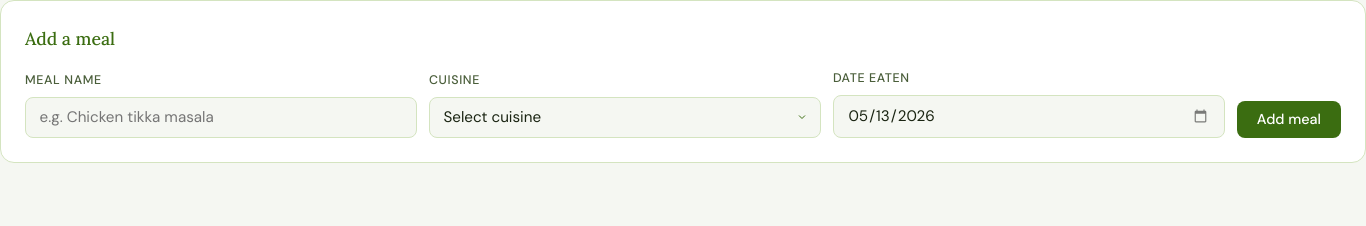
Test: MealForm — successful submission › shows success message after meal is created
Type "Pizza" into the field with placeholder "e.g. Chicken tikka masala" at {"x": 221, "y": 117}, box [25,97,417,138]
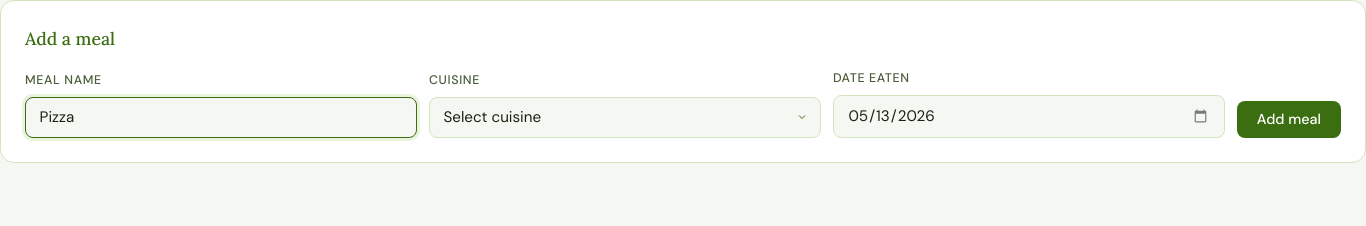
Select "Italian" in the dropdown at {"x": 625, "y": 117}, box [429,97,821,138]
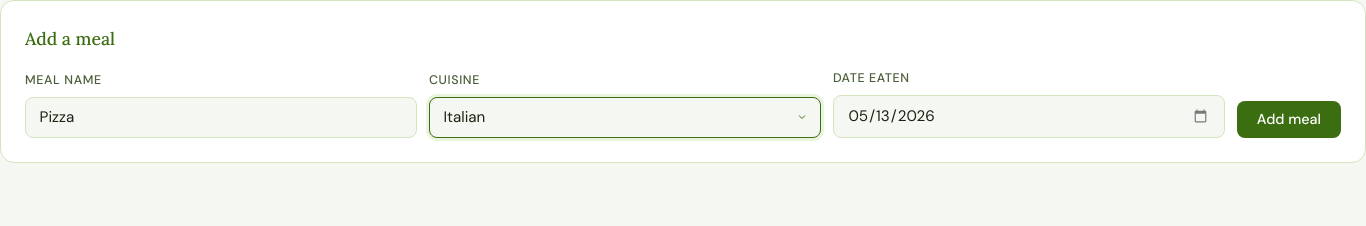
Click the button "Add meal" at {"x": 1289, "y": 119}, box [1237,101,1341,138]
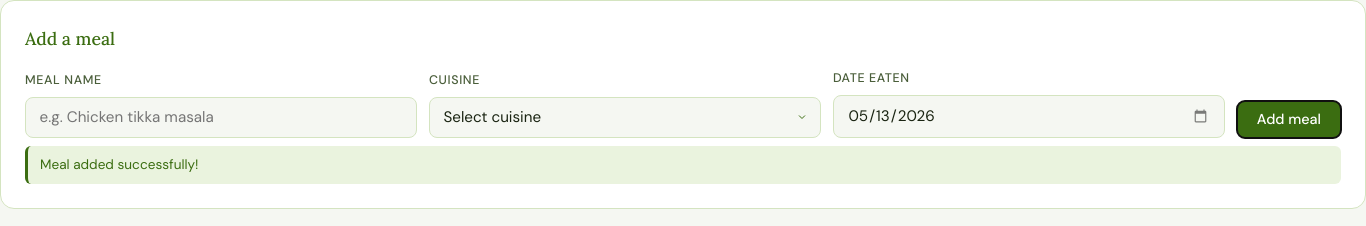
Check: the text "Meal added successfully!" is shown, box [25,146,1341,184]
